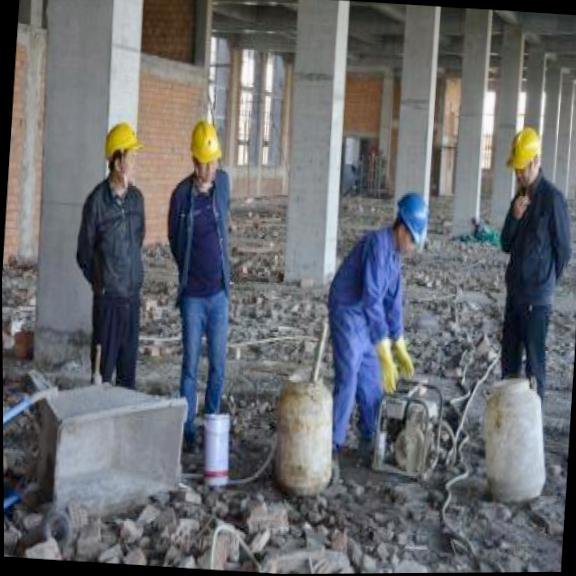no_safety_vest: (486, 171, 576, 312), (319, 219, 414, 350), (158, 164, 241, 295), (69, 180, 156, 294)
